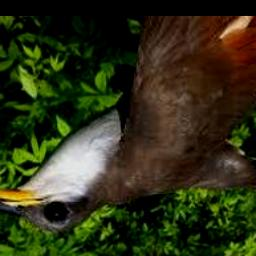Cuckoo: (0, 17, 256, 232)
